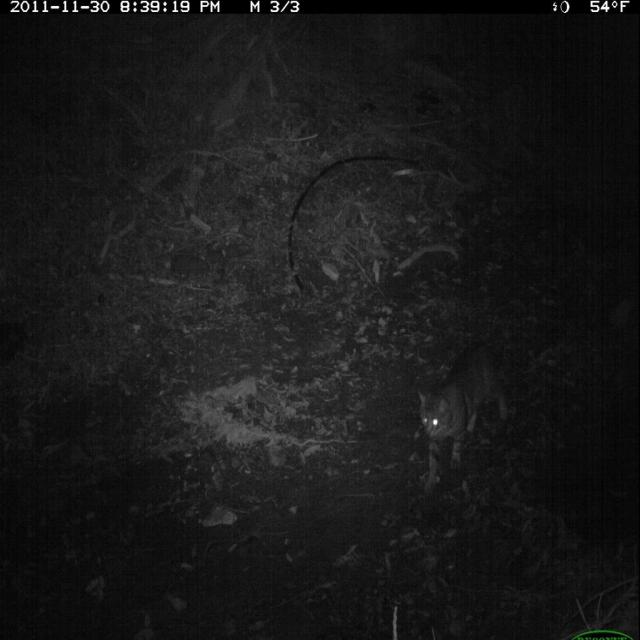cat: (412, 323, 513, 491)
